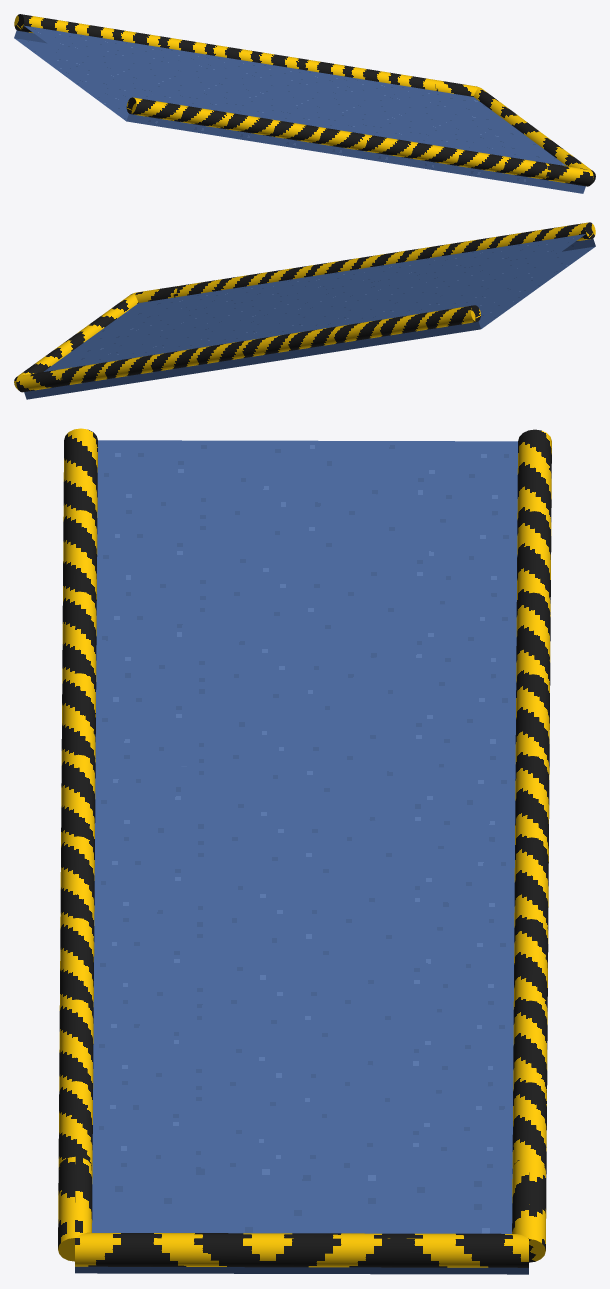
The model's file is ramp.fbx.
3 views of the same model, one above another, from view 1: azimuth 30°, elevation 25°; view 2: azimuth 150°, elevation 25°; view 3: azimuth 270°, elevation 25° (orthographic). The views are drawn at different scales.
Visible parts, largest first — view 1: Cube; view 2: Cube; view 3: Cube.
Boxes of the visible parts, x1,y1,x2,y2 form: Cube: (14,14,595,193); Cube: (14,222,595,399); Cube: (58,428,551,1274).
Size of the model in its own units: 1910 by 794 by 871.
